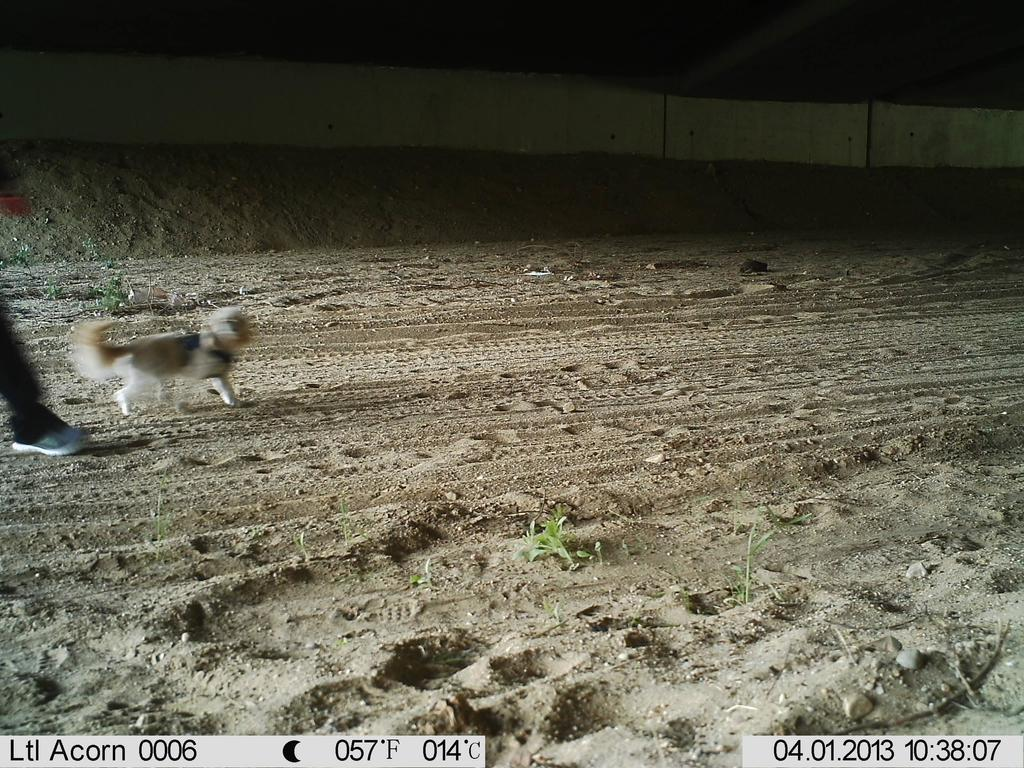dog: (69, 300, 260, 419)
